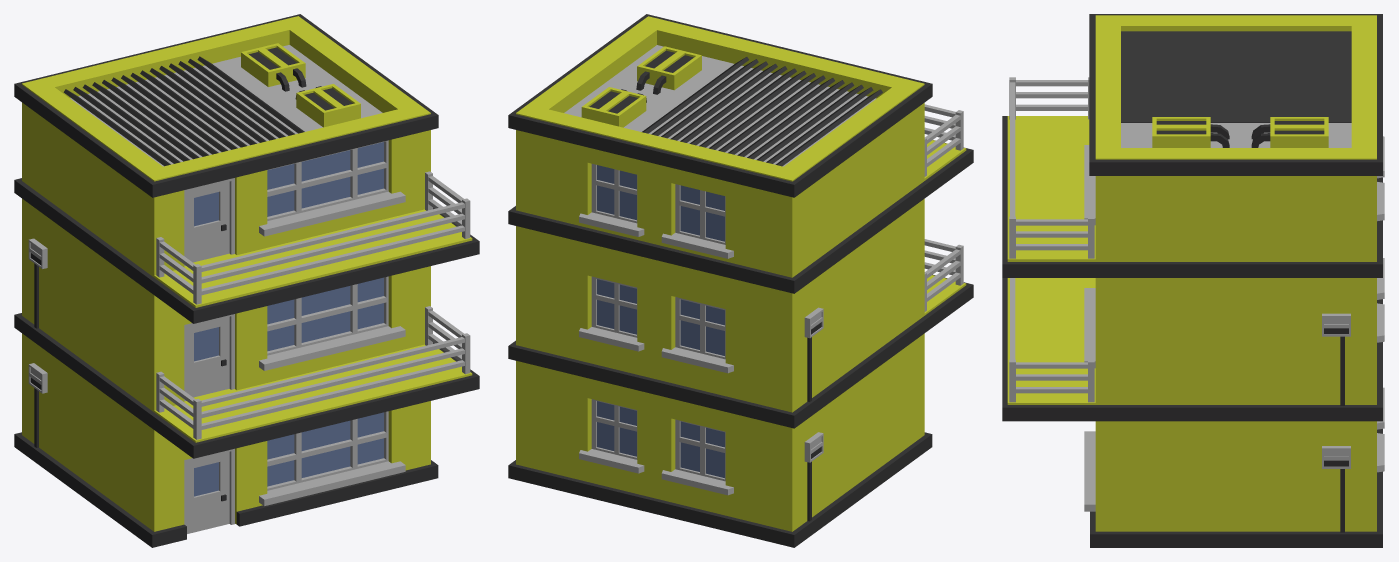
Rendered from Building5_3.fbx.
The picture shows the model from 3 angles, left to right: view 1: azimuth 30°, elevation 25°; view 2: azimuth 150°, elevation 25°; view 3: azimuth 270°, elevation 25°; orthographic projection. The views are drawn at different scales.
Parts seen in each view (by area): view 1: Building5_3; view 2: Building5_3; view 3: Building5_3.
Part boxes in pixels (bbox=[...]): Building5_3: bbox=[14, 14, 479, 547]; Building5_3: bbox=[508, 14, 973, 547]; Building5_3: bbox=[1002, 14, 1384, 547].
Size of the model in its own units: 478 by 581 by 520.
